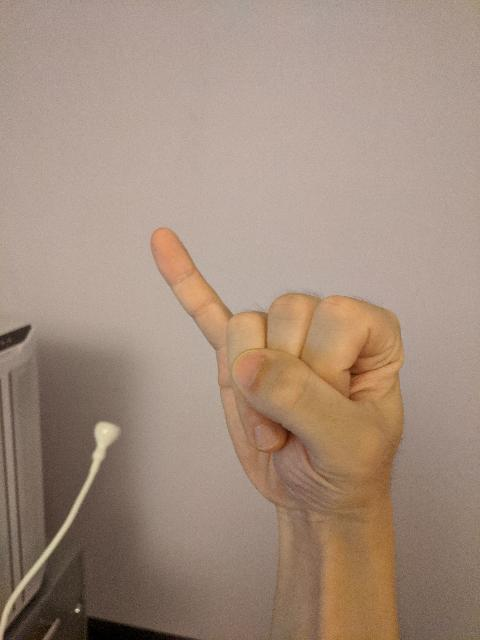I: (146, 222, 414, 518)
